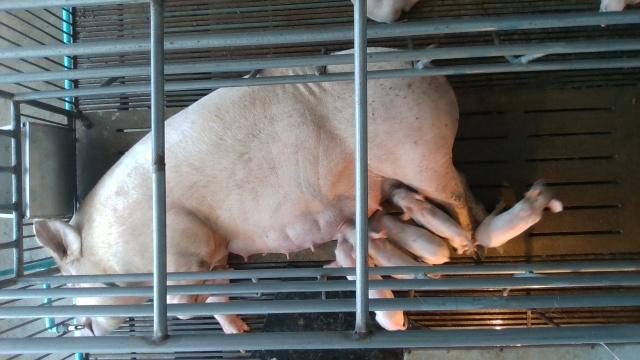piglet: (322, 243, 408, 331), (473, 175, 563, 251), (389, 184, 471, 254), (338, 218, 427, 280), (372, 208, 451, 265)
sow-sleep-lactate: (33, 48, 487, 332)
